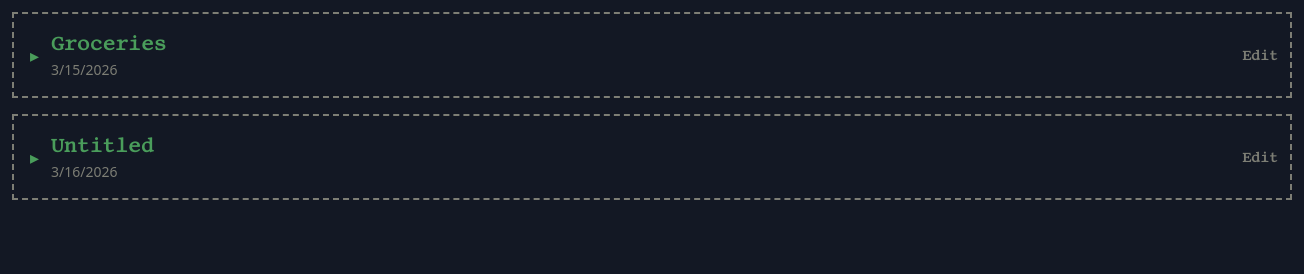
Test: NoteList › keeps note content collapsed until the note is expanded
The image size is (1304, 274).
Expected: the text "Eggs" is not shown
Click the text "Groceries" at (109, 44), box [51,30,166,58]
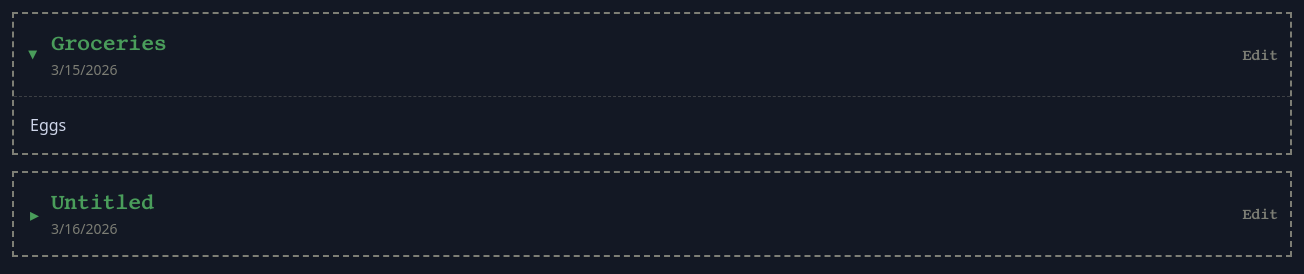
Expected: the text "Eggs" is shown, [30,114,66,136]
